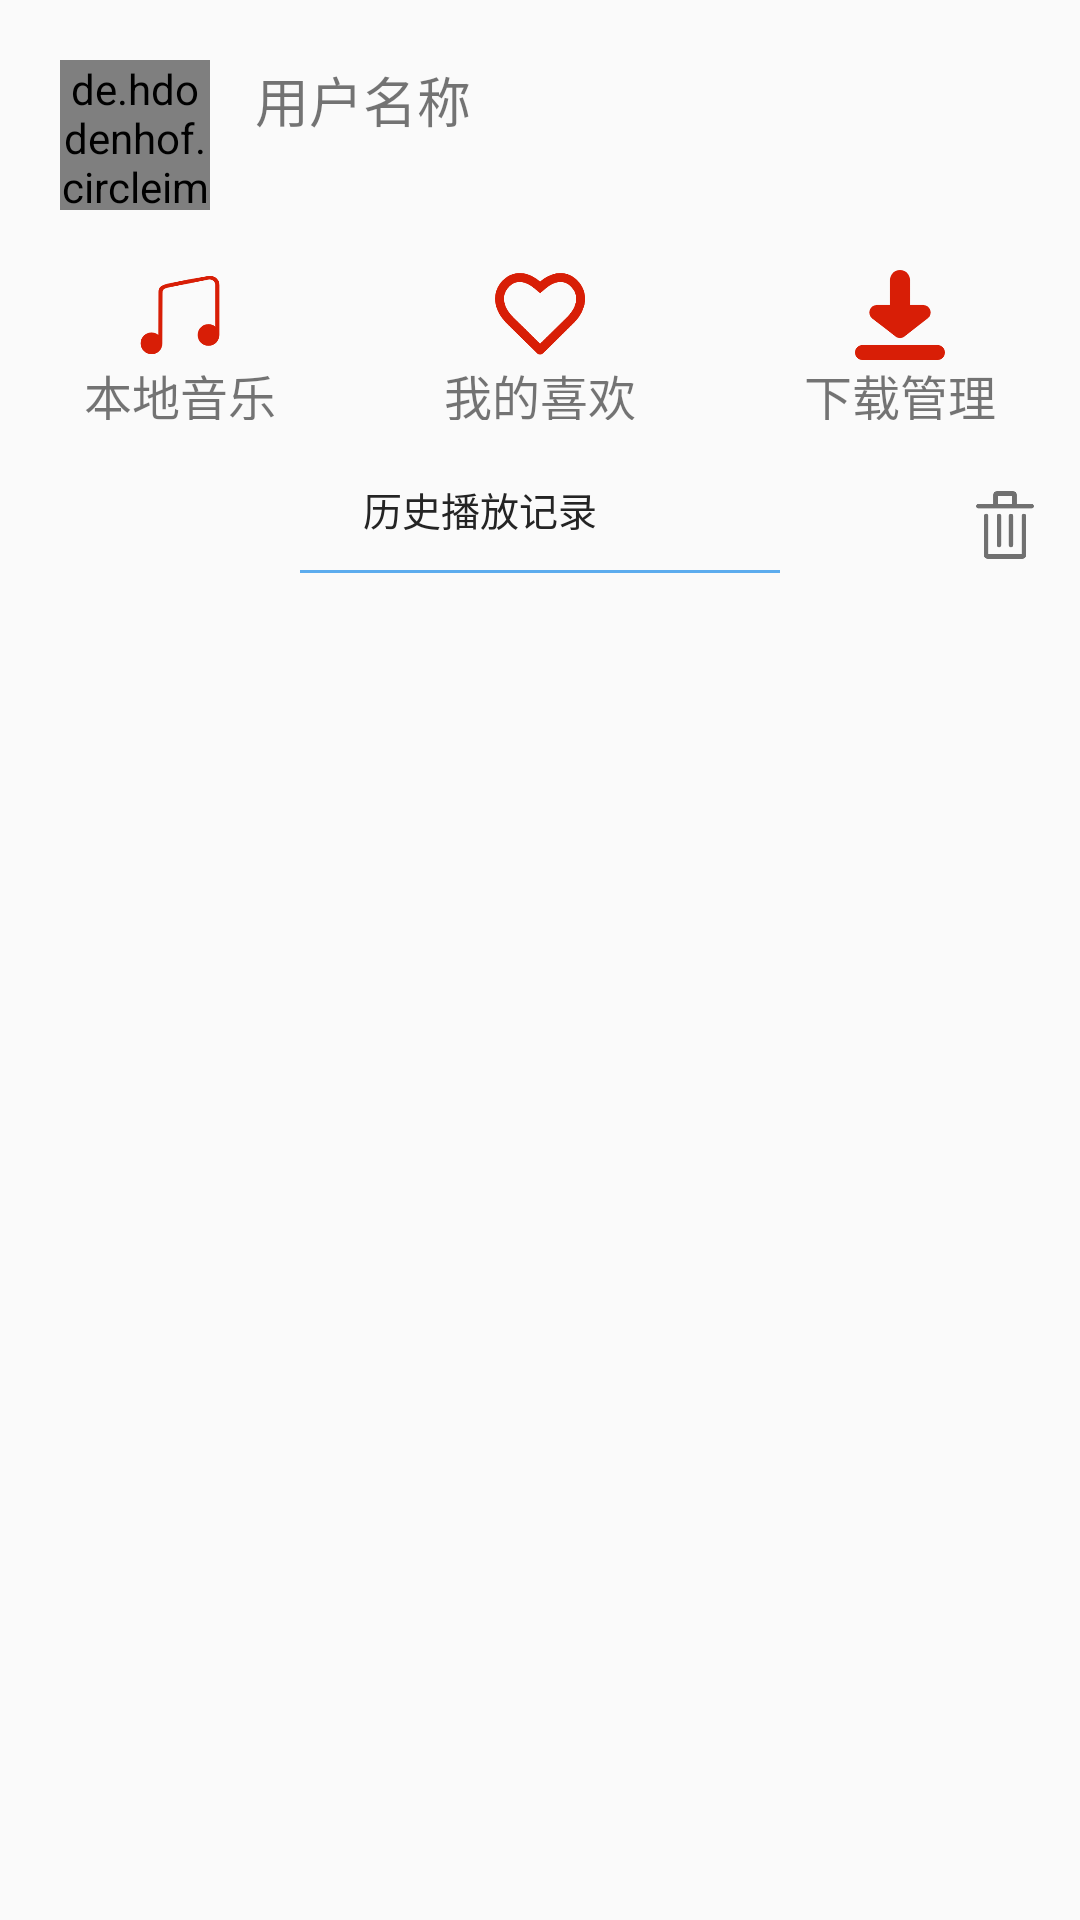

Named icons in this screenshot (1080 × 1920) and their bounding boxes, {"x1": x1, "y1": y1, "x2": x2, "y2": y2}:
recycle: {"x1": 976, "y1": 491, "x2": 1034, "y2": 559}
